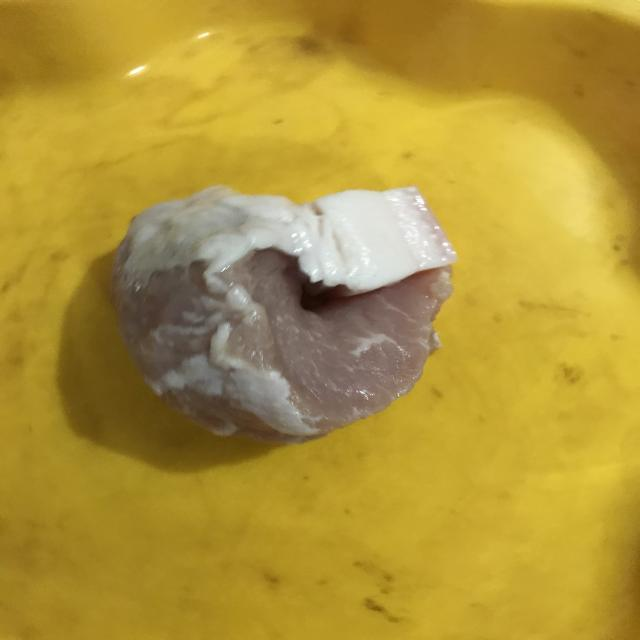chicken: (116, 179, 449, 439)
